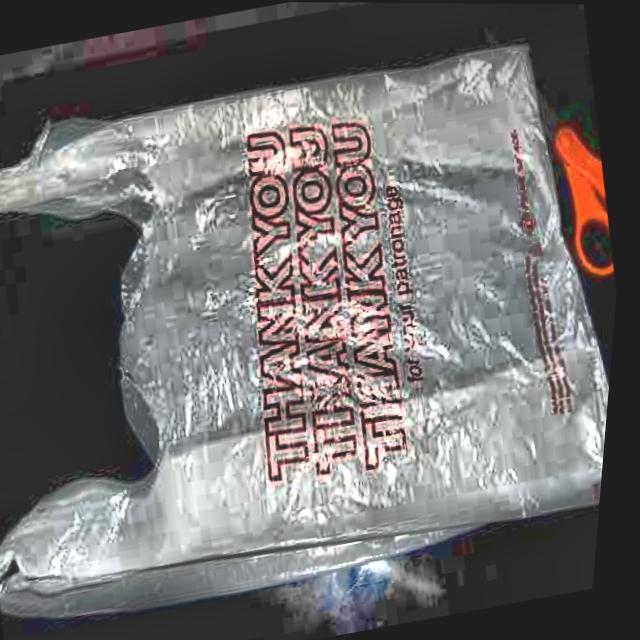Plastic: (0, 6, 640, 640)
